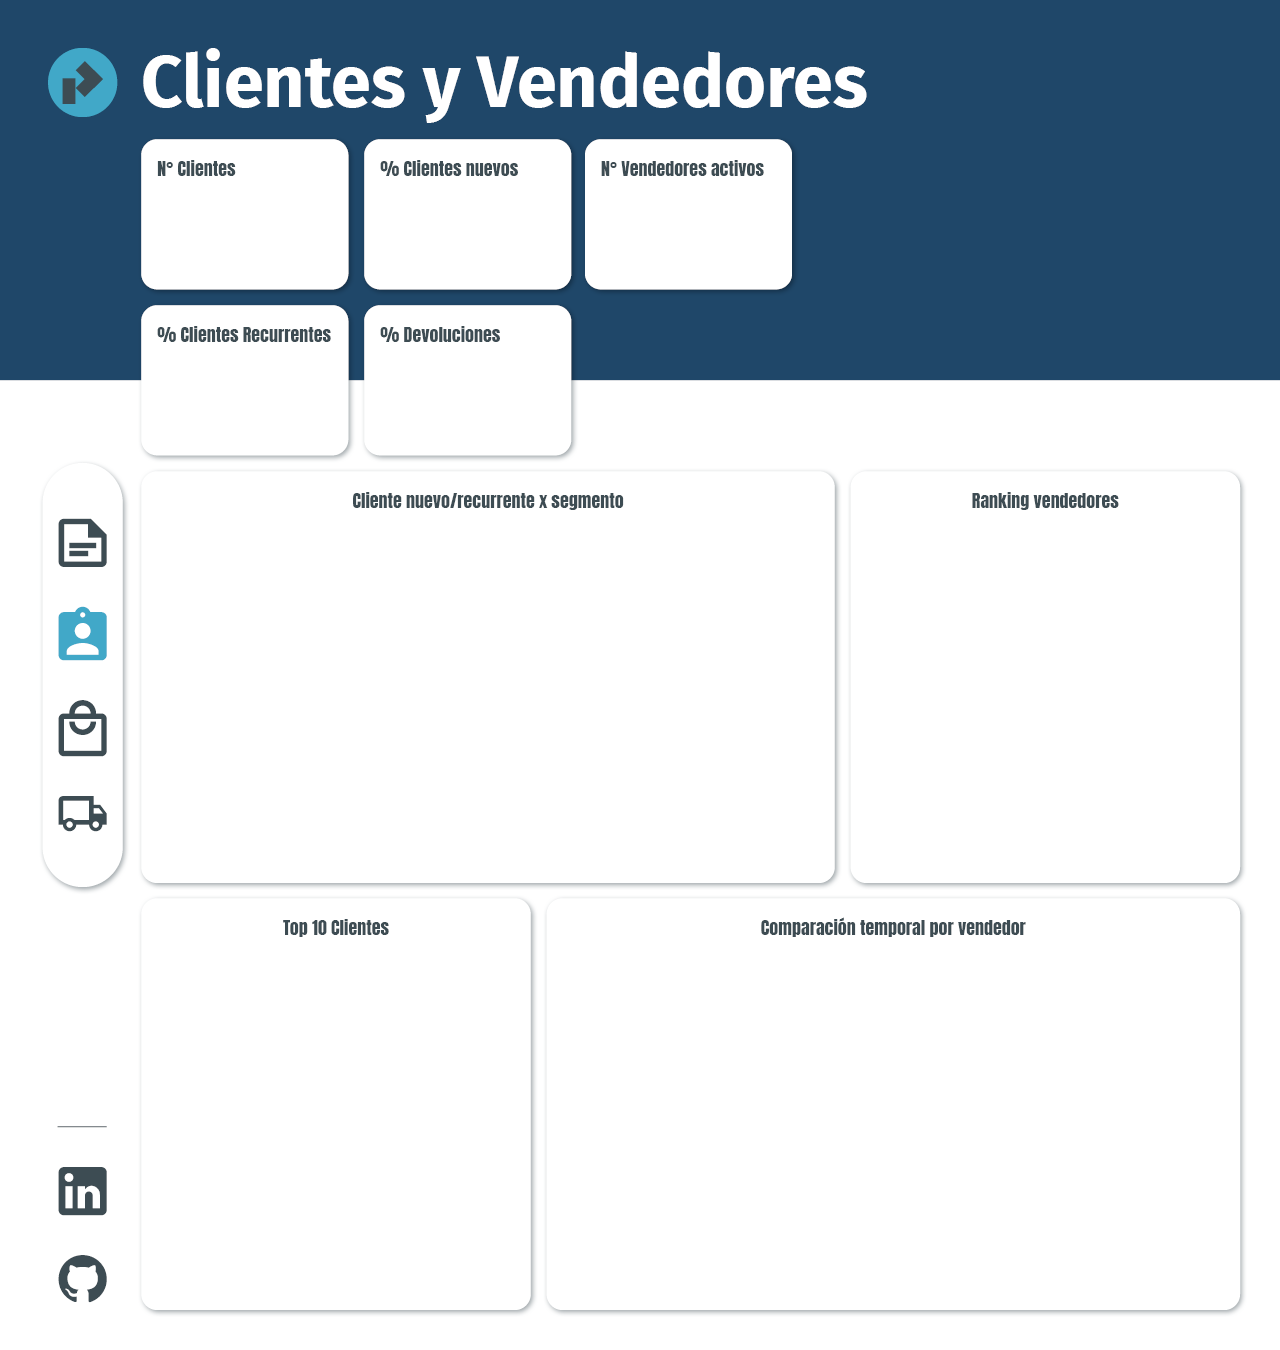

Layout of this report page (visuals, bound fields, positions):
{"tool":"powerbi","page":{"name":"Clientes","canvas":[1280,1350],"ordinal":2},"visuals":[{"type":"actionButton","box":[53.3,510,58.9,62.2],"z":0},{"type":"actionButton","box":[53.3,604.4,58.9,62.2],"z":1000},{"type":"actionButton","box":[53.3,695.6,58.9,62.2],"z":2000},{"type":"actionButton","box":[53.3,778.9,58.9,62.2],"z":3000},{"type":"card","fields":{"Values":["Medidas.CLIENTES UNICOS"]},"box":[140,137,209,152],"z":4000},{"type":"advancedSlicerVisual","fields":{"Values":["dimCalendario.Año"]},"box":[908.3,136.7,333.3,90],"z":5000},{"type":"card","fields":{"Values":["Medidas.CLIENTES NUEVOS %"]},"box":[364.3,137.1,208.6,151.4],"z":6000},{"type":"card","fields":{"Values":["Medidas.NUMERO VENDEDORES ACTIVOS"]},"box":[584.3,137.1,208.6,151.4],"z":7000},{"type":"card","fields":{"Values":["Medidas.CLIENTES RECURRENTES %"]},"box":[140,302.9,208.6,151.4],"z":8000},{"type":"card","fields":{"Values":["Medidas.DEVOLUCIONES %"]},"box":[364.3,302.9,208.6,151.4],"z":9000},{"type":"hundredPercentStackedColumnChart","fields":{"Y":["Medidas.CLIENTES RECURRENTES","Medidas.CLIENTES NUEVOS"],"Category":["dimCliente.Segment"]},"box":[140,510,697.1,374.3],"z":10000},{"type":"barChart","fields":{"Category":["dimVendedor.Name"],"Y":["Medidas.VENTAS"]},"box":[850,510,391.7,375],"z":11000},{"type":"barChart","fields":{"Category":["dimCliente.Name"],"Y":["Medidas.VENTAS"]},"box":[140,931.7,391.7,375],"z":12000},{"type":"lineChart","fields":{"Y":["Medidas.VENTAS"],"Category":["dimCalendario.Mes Nombre"],"Series":["dimVendedor.Name"]},"box":[548.3,931.7,693.3,375],"z":13000},{"type":"slicer","fields":{"Values":["dimRegion.State"]},"box":[908.3,243.3,333.3,90],"z":14000}]}

Visuals, with their boxes in screenshot pixels (x1, y1, x2, y2), scaled from the page's 1280x1350 canvas onto the 1280x1350 screenshot:
actionButton: detection(53, 510, 112, 572)
actionButton: detection(53, 604, 112, 667)
actionButton: detection(53, 696, 112, 758)
actionButton: detection(53, 779, 112, 841)
card - Medidas.CLIENTES UNICOS: detection(140, 137, 349, 289)
advancedSlicerVisual - dimCalendario.Año: detection(908, 137, 1242, 227)
card - Medidas.CLIENTES NUEVOS %: detection(364, 137, 573, 288)
card - Medidas.NUMERO VENDEDORES ACTIVOS: detection(584, 137, 793, 288)
card - Medidas.CLIENTES RECURRENTES %: detection(140, 303, 349, 454)
card - Medidas.DEVOLUCIONES %: detection(364, 303, 573, 454)
hundredPercentStackedColumnChart - Medidas.CLIENTES RECURRENTES x Medidas.CLIENTES NUEVOS: detection(140, 510, 837, 884)
barChart - dimVendedor.Name x Medidas.VENTAS: detection(850, 510, 1242, 885)
barChart - dimCliente.Name x Medidas.VENTAS: detection(140, 932, 532, 1307)
lineChart - Medidas.VENTAS x dimCalendario.Mes Nombre: detection(548, 932, 1242, 1307)
slicer - dimRegion.State: detection(908, 243, 1242, 333)
